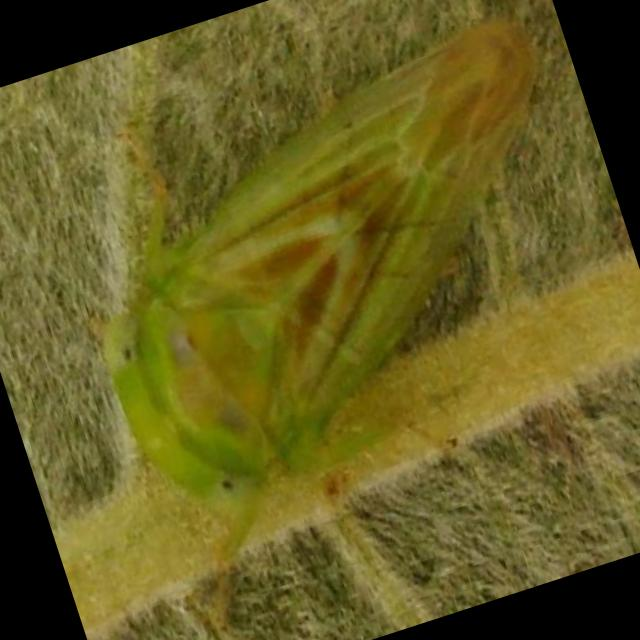green-leafhopper: (104, 17, 537, 631)
